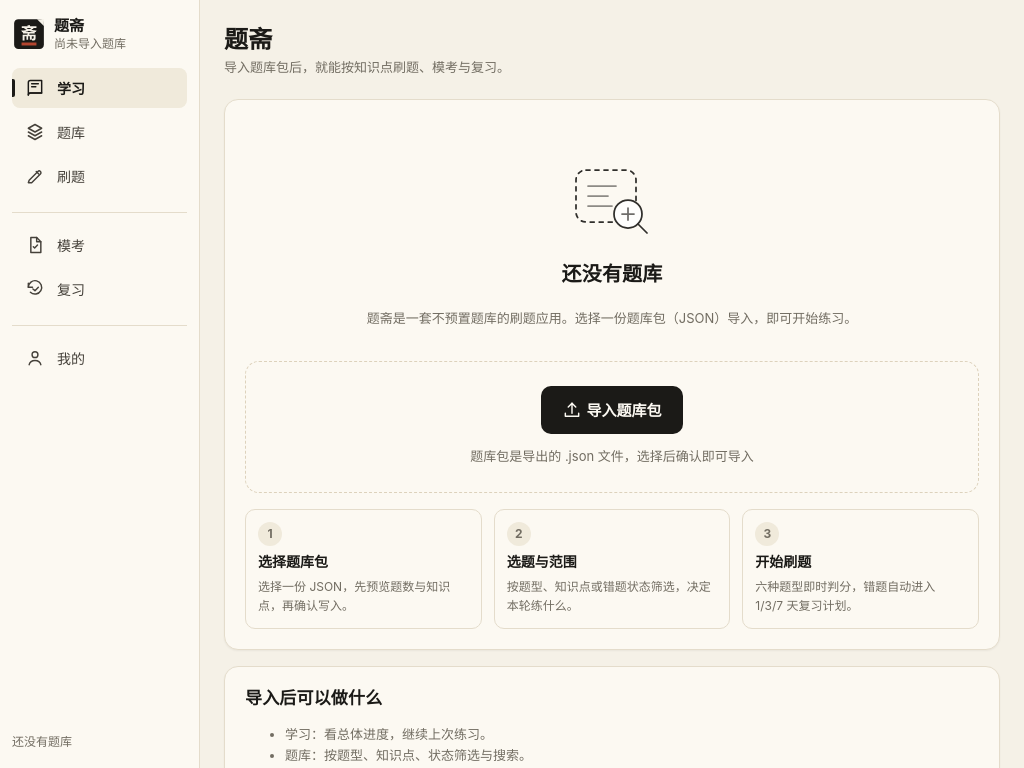
it: 空壳态 › 没有题库时进入刷题主页，导航可用且首页内有导入入口
The image size is (1024, 768).
Expected: the heading "题斋" is shown, [224, 25, 272, 54]
Expected: the heading "还没有题库" is shown, [562, 260, 662, 288]
Step 1. Click the button "刷题" → [100, 176], box [12, 156, 187, 196]
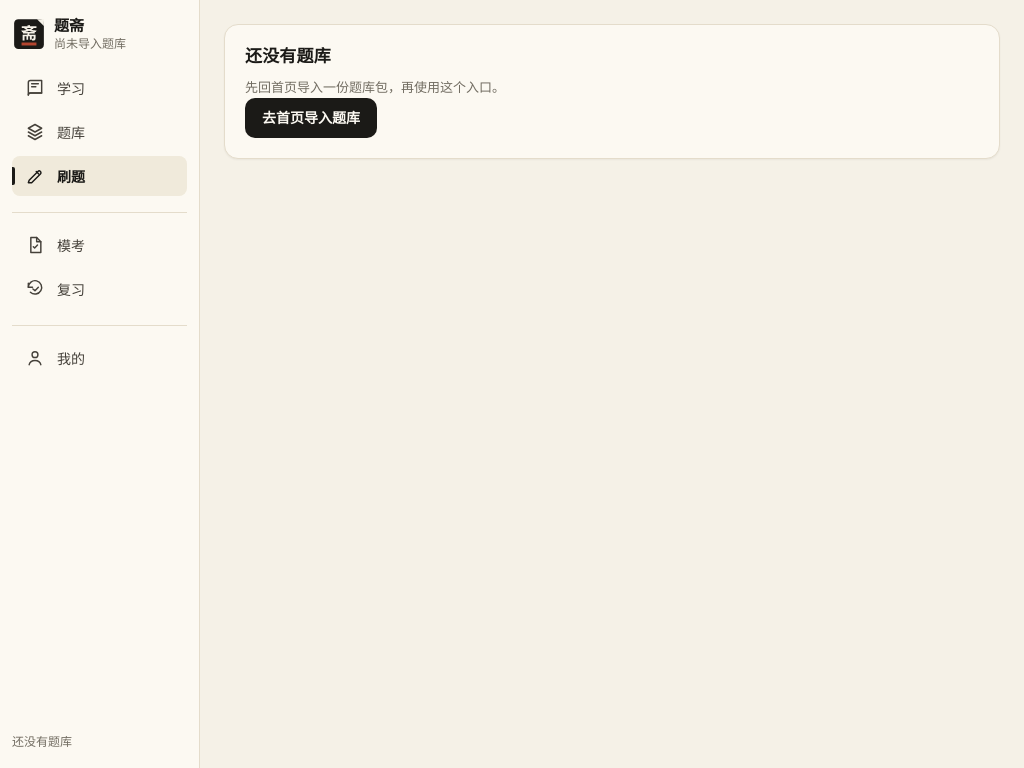
Result: the text "先回首页导入一份题库包，再使用这个入口。" is shown at [245, 79, 505, 95]
Step 2. Click the button "我的" → [100, 358], box [12, 338, 187, 378]
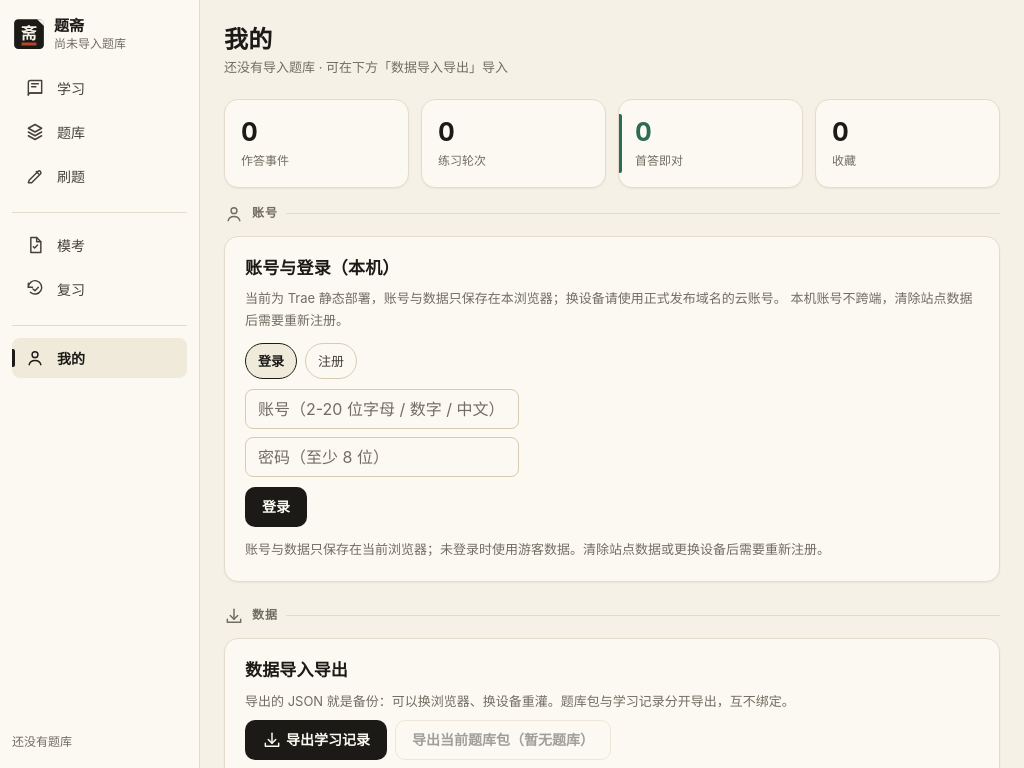
Result: the heading "我的" is shown at [224, 25, 272, 54]
Result: the heading "账号与登录（本机）" is shown at [245, 258, 400, 278]
Result: the text "还没有导入题库 · 可在下方「数据导入导出」导入" is shown at [224, 57, 508, 79]
